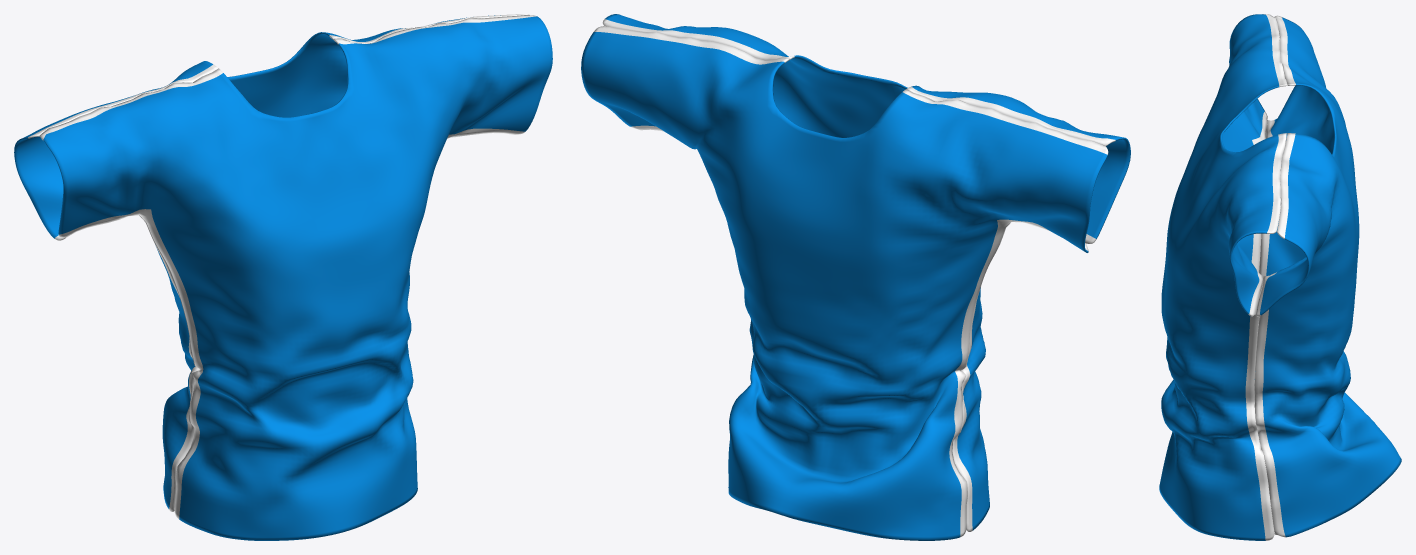
File: BLUE_T.fbx
The picture shows the model from 3 angles, left to right: view 1: azimuth 30°, elevation 25°; view 2: azimuth 150°, elevation 25°; view 3: azimuth 270°, elevation 25°; orthographic projection. The views are drawn at different scales.
Parts seen in each view (by area): view 1: T-shirt; view 2: T-shirt; view 3: T-shirt.
Part boxes in pixels (x1,y1,x2,y2): T-shirt: [14, 14, 552, 540]; T-shirt: [581, 14, 1130, 540]; T-shirt: [1159, 14, 1401, 540].
Bounding box in the file's own units: 71.39 × 58.55 × 33.22.
